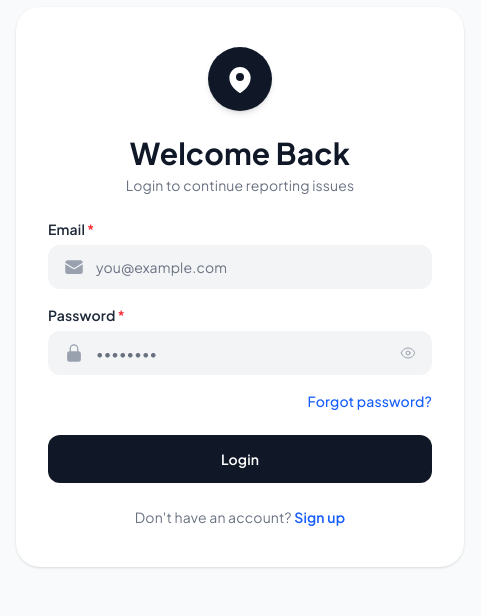
Test: LoginPage › shows validation error when fields are empty
The image size is (481, 616).
Click the button "Login" at point(240, 459), box [48,435,432,483]
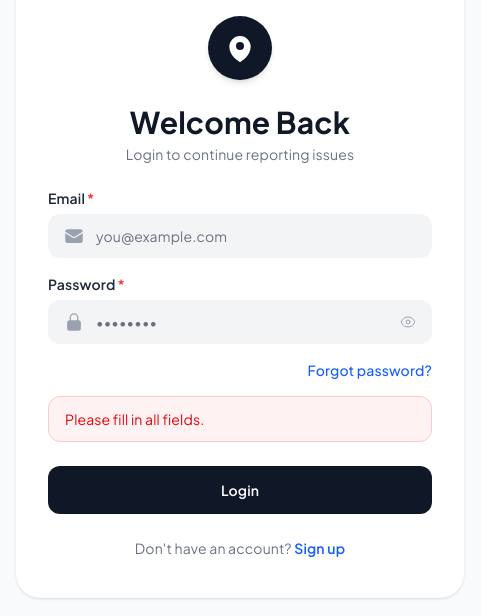
Check: the text "Please fill in all fields." is shown, box [65,410,204,428]
